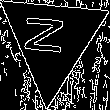N_E: (28, 18, 77, 63)
